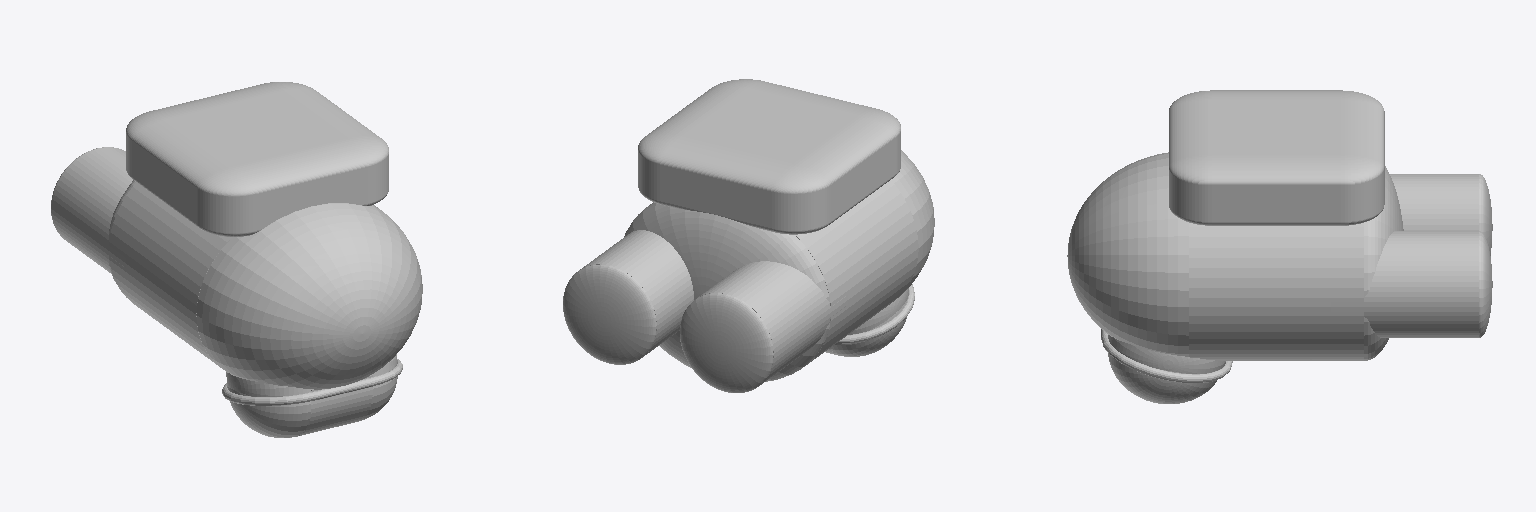
File: character_brown.obj
3 renders of one model, left to right at view 1: azimuth 30°, elevation 25°; view 2: azimuth 150°, elevation 25°; view 3: azimuth 270°, elevation 25°, orthographic.
Visible parts, largest first — view 1: obj_0; view 2: obj_0; view 3: obj_0.
Part boxes in pixels (x1,y1,x2,y2): obj_0: (51, 82, 422, 437); obj_0: (563, 79, 934, 392); obj_0: (1067, 90, 1492, 403).
Bounding box in the file's own units: 18 × 21 × 31.5.